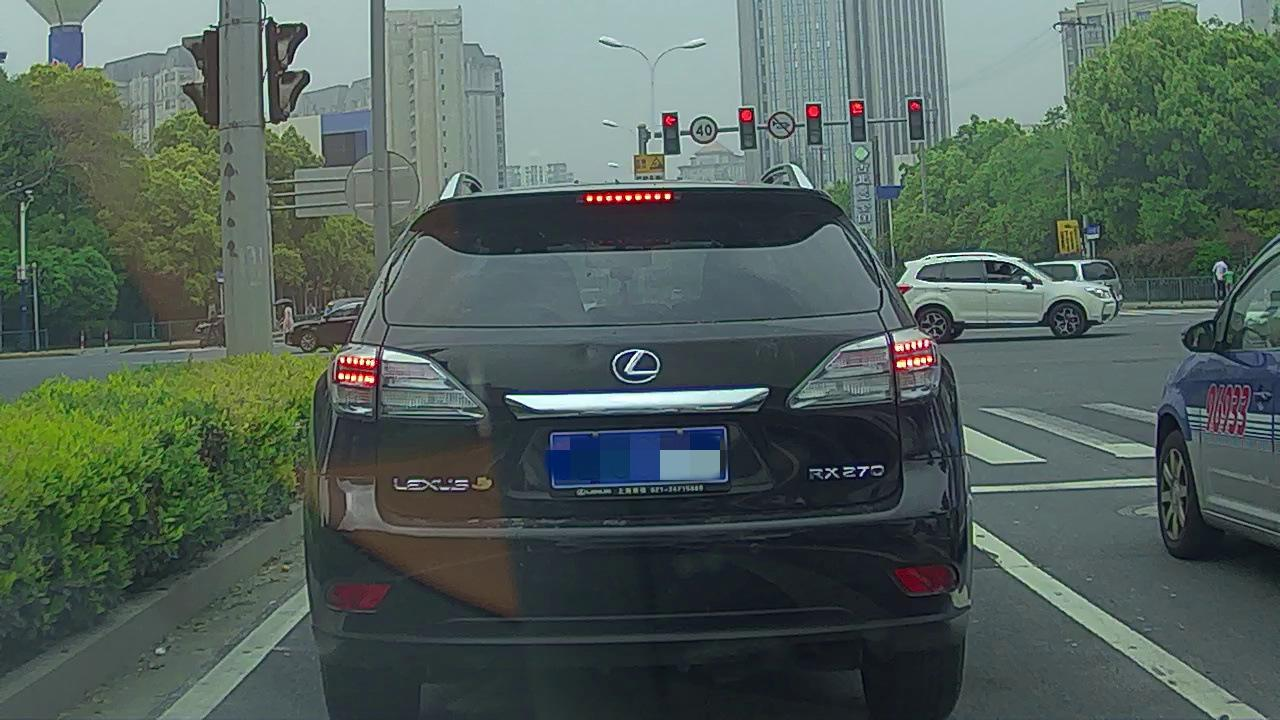traffic_light: (662, 111, 680, 155), (850, 100, 867, 144), (908, 97, 924, 141), (739, 109, 756, 148), (807, 104, 823, 145)
